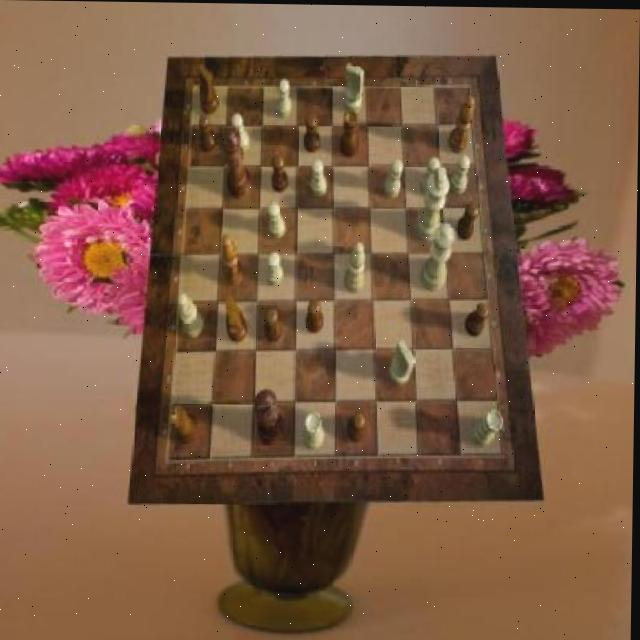bishop: (449, 93, 476, 152), (223, 233, 246, 284)
black-bishop: (255, 389, 288, 445)
black-king: (197, 64, 219, 115), (226, 295, 249, 343)
black-knight: (467, 301, 491, 335), (456, 201, 478, 238), (198, 113, 218, 152), (304, 113, 321, 153), (273, 154, 290, 193), (265, 308, 283, 343), (307, 297, 325, 332), (347, 410, 367, 441)
black-pawn: (222, 127, 253, 200)
black-queen: (172, 405, 200, 443), (340, 110, 358, 158)
black-rook: (178, 293, 205, 339), (344, 241, 366, 292)
white-bishop: (416, 164, 452, 239)
white-king: (391, 338, 416, 384), (345, 63, 365, 112)
white-knight: (421, 156, 441, 196), (452, 155, 472, 193), (231, 113, 250, 152), (386, 158, 403, 197), (277, 78, 294, 117), (268, 202, 286, 238), (267, 251, 285, 285), (312, 159, 328, 197)
white-pawn: (421, 222, 458, 290)
white-queen: (470, 407, 504, 445), (305, 411, 327, 450)
